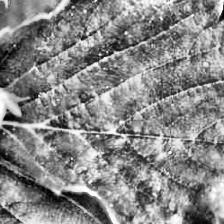Powdery Mildew Leaf: (0, 0, 224, 224), (0, 49, 31, 133)
